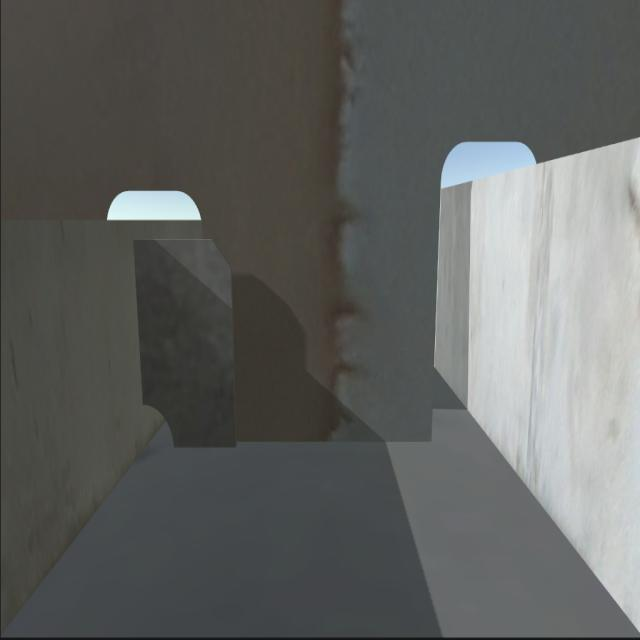fillet_hole: (142, 398, 178, 447)
fillet_yong_jeop_jang: (168, 434, 432, 456)
longi_yong_jeop_jang: (130, 242, 148, 403)
plate_CP03: (137, 236, 235, 444)
